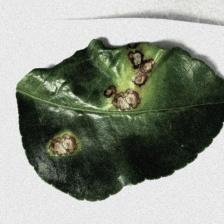canker: (49, 59, 158, 170)
